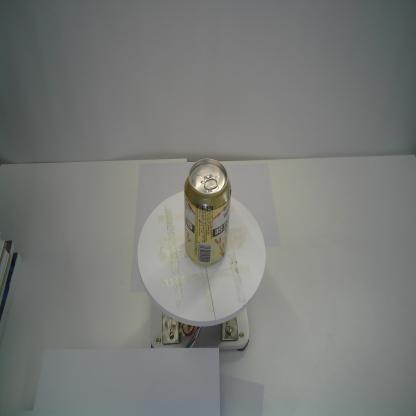Alcohol: (184, 158, 232, 266)
